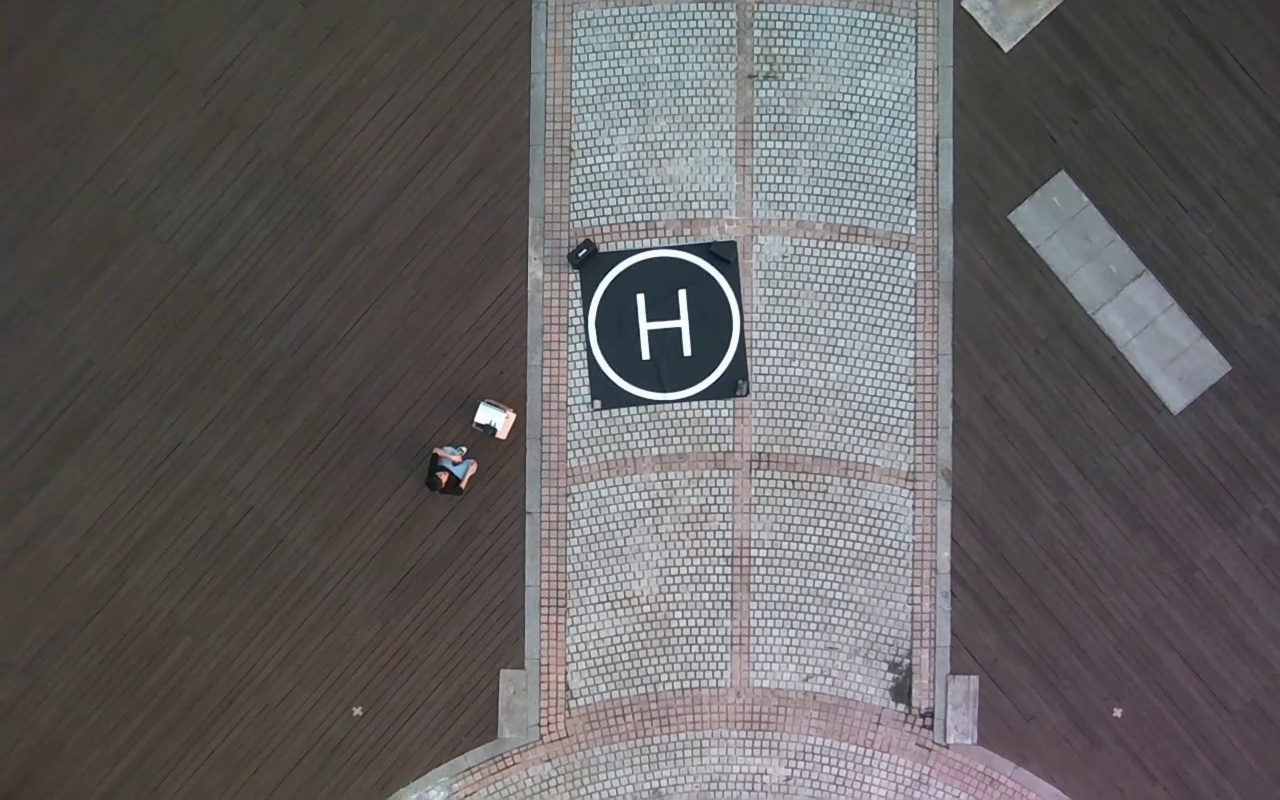H: (635, 288, 694, 359)
heliport: (587, 248, 741, 401)
